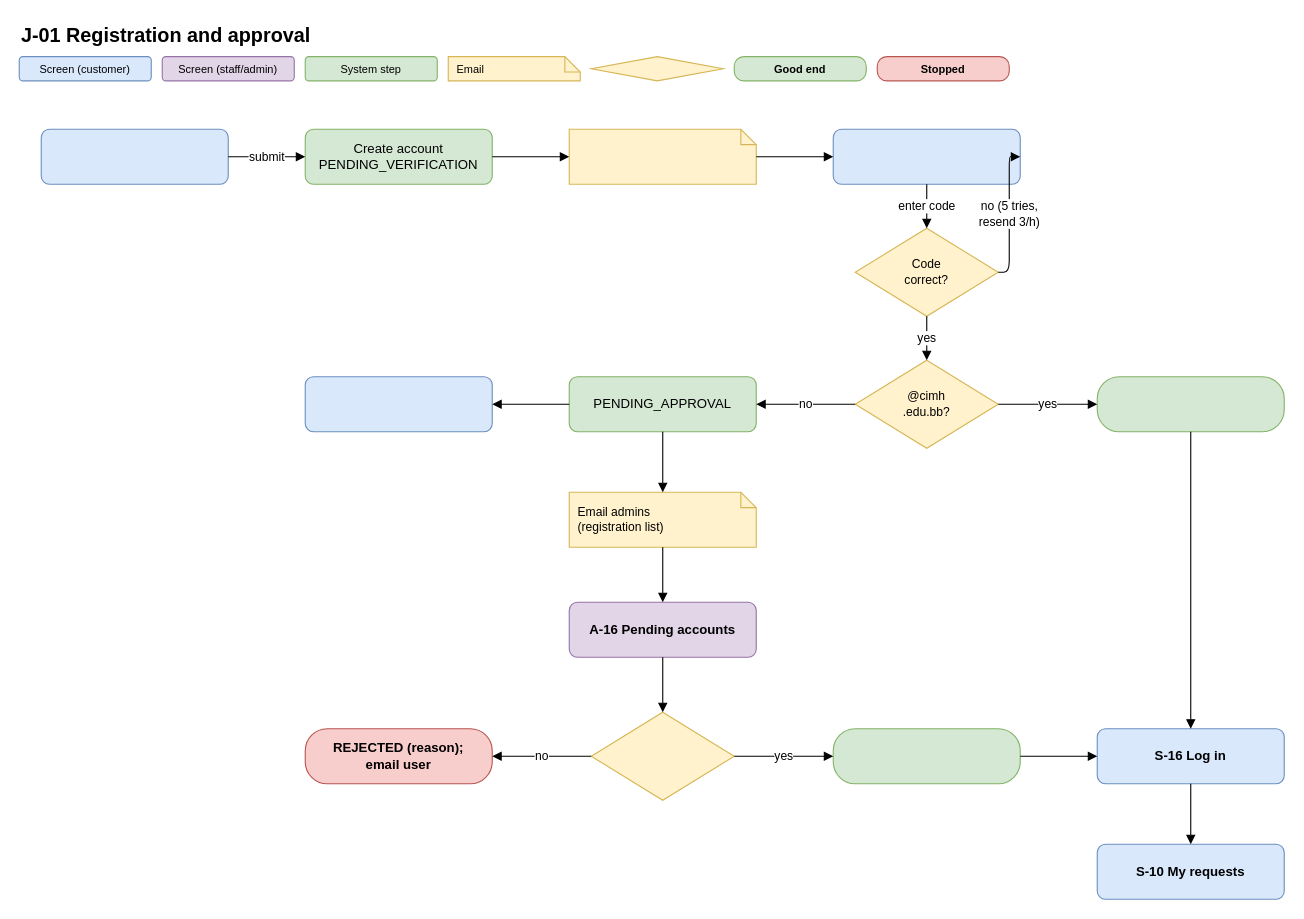
This 1304x919 diagram has some shape labels left out. The box of each missing label's shape, as (x1, y1, x2, y2) in pixels:
ACTIVE (cannot request items): (1096, 376, 1284, 432)
ACTIVE + organisation + role; email user: (832, 728, 1020, 784)
Approve?: (590, 711, 734, 800)
Decision: (590, 56, 723, 81)
Email: 6-digit code: (568, 128, 756, 184)
S-13 Sign up: (40, 128, 228, 184)
S-14 Verify email: (832, 128, 1020, 184)
S-15 Awaiting approval: (304, 376, 492, 432)
